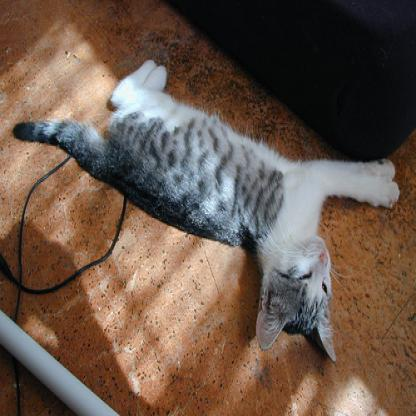cat: (11, 59, 399, 358)
